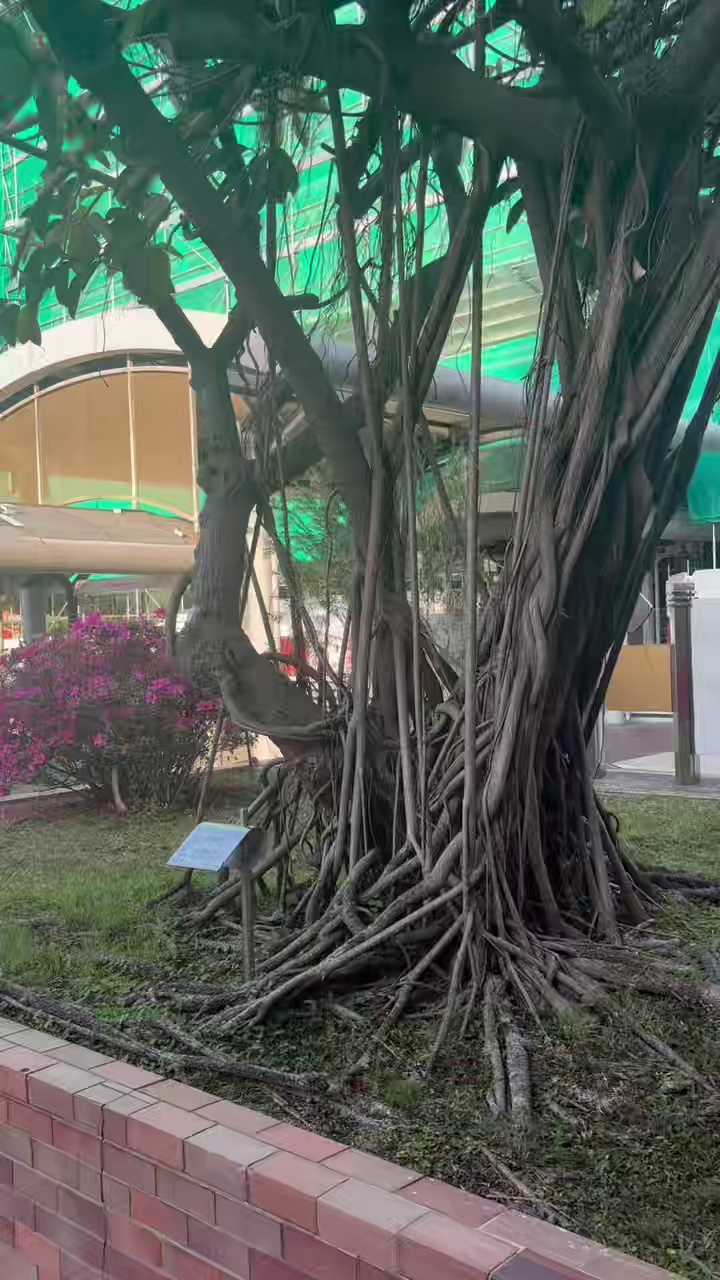Ficus elastica: (23, 0, 719, 1050)
